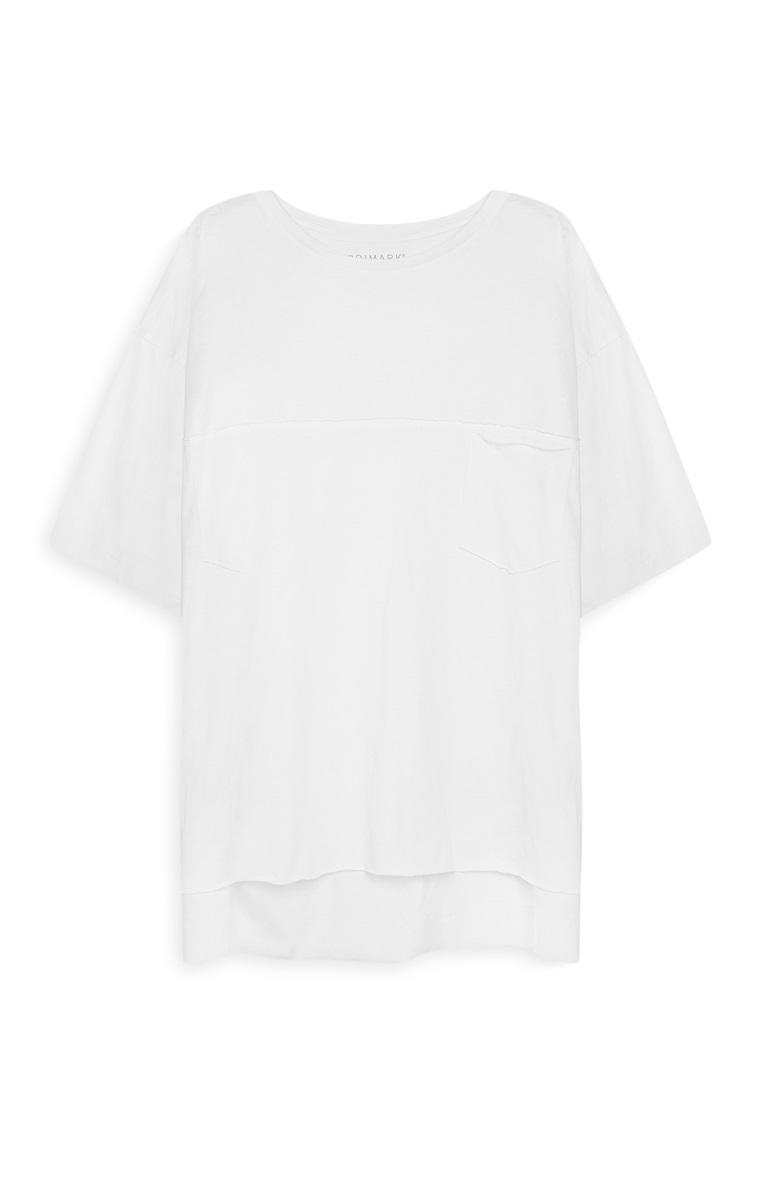teeshirt: (50, 174, 716, 1027)
